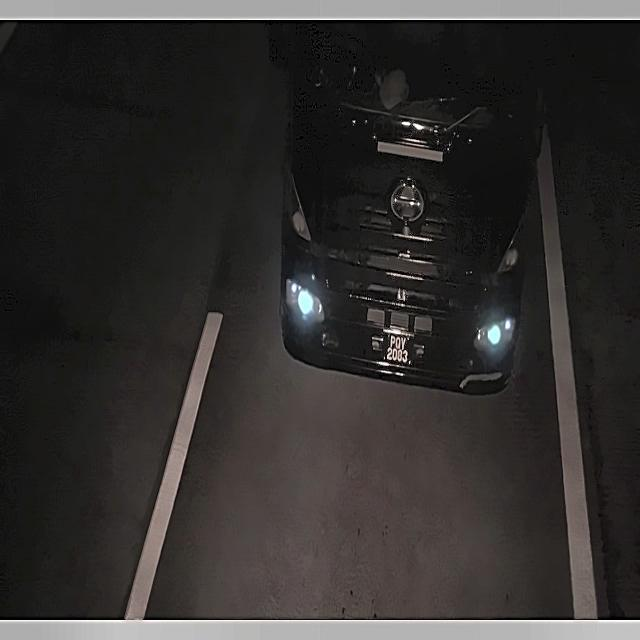car: (383, 327, 414, 374)
